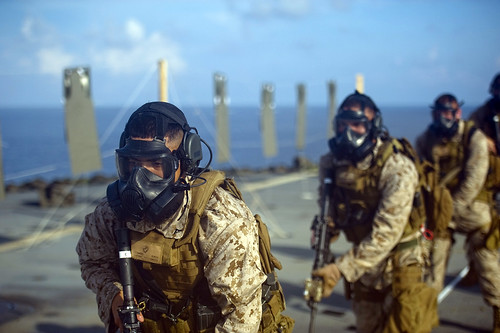sea: (1, 100, 335, 185)
sky: (1, 1, 500, 94)
soldier: (72, 109, 257, 333), (309, 102, 433, 333), (426, 100, 500, 306)
weapon: (296, 177, 346, 329)
